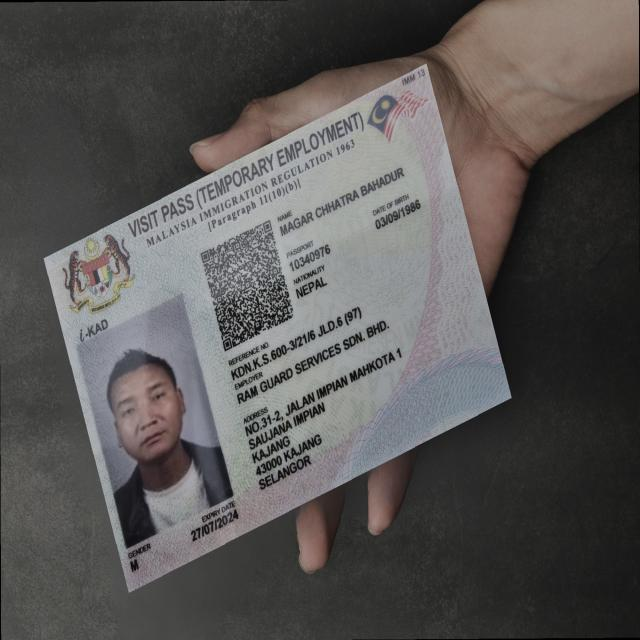ikad-temp: (42, 61, 512, 593)
